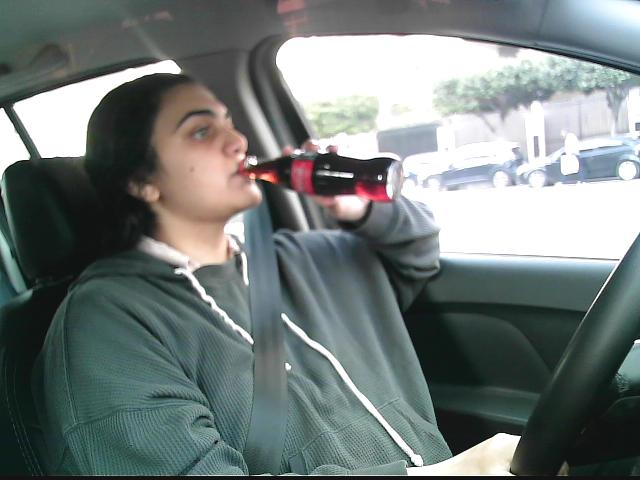Drinking: (125, 83, 405, 220)
